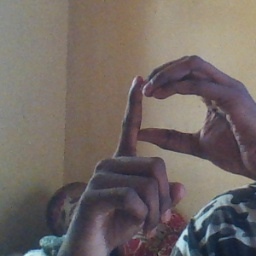P: (87, 54, 246, 234)
